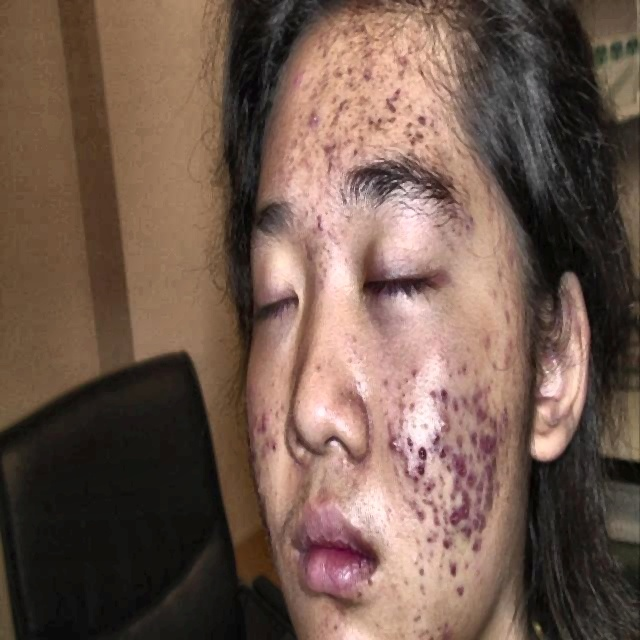nodule: (456, 205, 484, 241), (384, 83, 408, 124), (492, 297, 515, 338), (344, 49, 370, 85), (388, 426, 413, 463), (302, 95, 323, 139), (408, 606, 433, 640), (447, 567, 468, 605), (275, 148, 297, 184), (412, 103, 433, 139), (468, 382, 489, 418), (434, 612, 460, 640), (474, 334, 493, 370), (434, 409, 456, 440), (313, 31, 339, 57), (406, 488, 426, 521), (364, 109, 386, 138), (420, 476, 441, 506), (252, 475, 270, 510), (444, 437, 461, 474), (479, 428, 502, 455), (496, 398, 513, 432), (333, 84, 349, 120), (411, 536, 424, 580), (472, 532, 488, 565), (388, 50, 405, 80), (321, 158, 338, 188), (254, 409, 278, 430), (348, 140, 363, 172), (316, 207, 330, 241), (425, 522, 441, 551), (476, 484, 497, 506), (447, 474, 464, 500), (455, 390, 470, 419), (407, 395, 422, 424), (245, 383, 261, 410), (467, 516, 487, 536), (450, 502, 459, 546), (291, 64, 306, 90), (411, 437, 432, 455), (411, 459, 433, 476), (463, 466, 479, 489), (392, 394, 404, 424), (459, 353, 471, 383), (422, 505, 442, 522), (444, 550, 459, 572), (436, 382, 453, 401), (268, 432, 280, 457), (458, 497, 472, 517), (411, 367, 423, 387), (431, 426, 442, 447), (458, 459, 470, 476), (471, 428, 478, 455), (328, 141, 340, 156), (479, 466, 494, 478), (481, 417, 500, 426)
